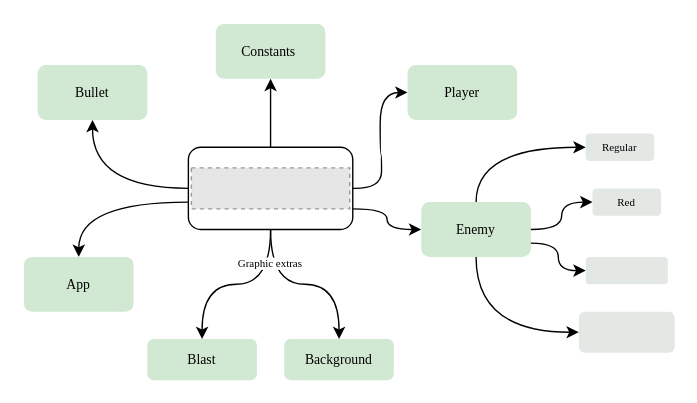
Image size: 697x403. Some labels were removed from this diagram. Grey dashed boxes stand in for pictures. Here are the shapes that lost their labels. From the top down, the box of each, then its label:
(585, 256, 667, 284): Bombardier
(578, 311, 674, 352): SuperBombardier
